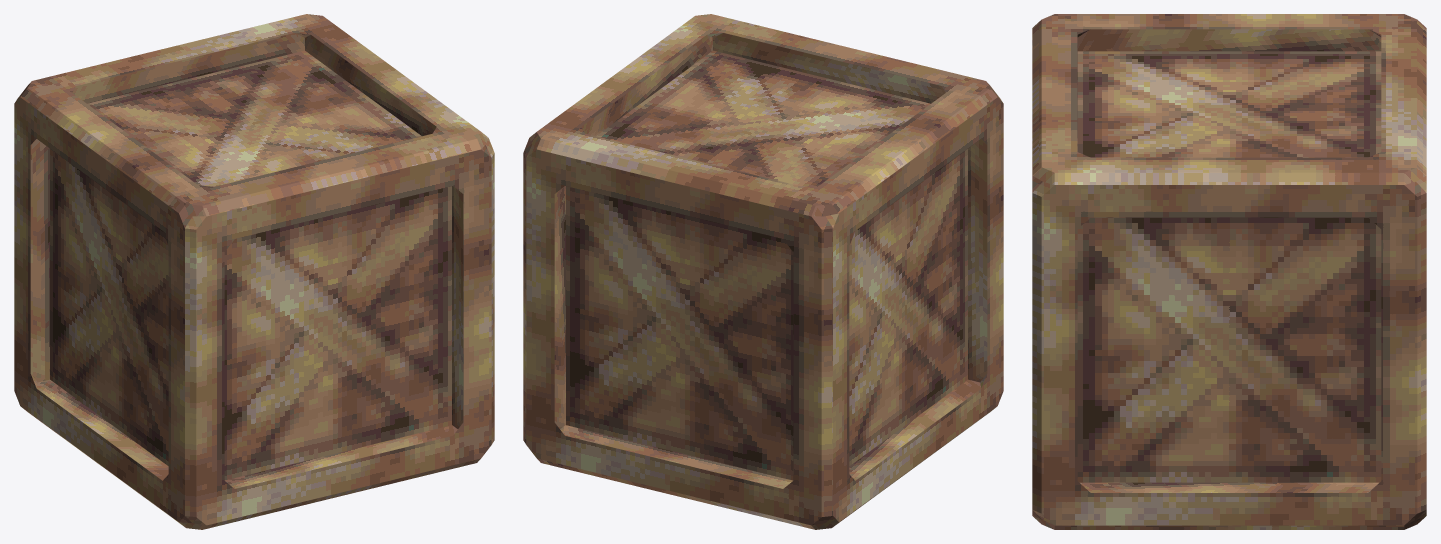
Rendered from detailed_box_obj.fbx.
3 views of the same model, side by side, from view 1: azimuth 30°, elevation 25°; view 2: azimuth 150°, elevation 25°; view 3: azimuth 270°, elevation 25° (orthographic). The views are drawn at different scales.
Visible parts, largest first — view 1: detailed_box_obj; view 2: detailed_box_obj; view 3: detailed_box_obj.
Boxes of the visible parts, <box> form: detailed_box_obj: <box>14,14,494,529</box>; detailed_box_obj: <box>523,14,1003,529</box>; detailed_box_obj: <box>1032,14,1426,529</box>.
Size of the model in its own units: 200 by 200 by 200.
